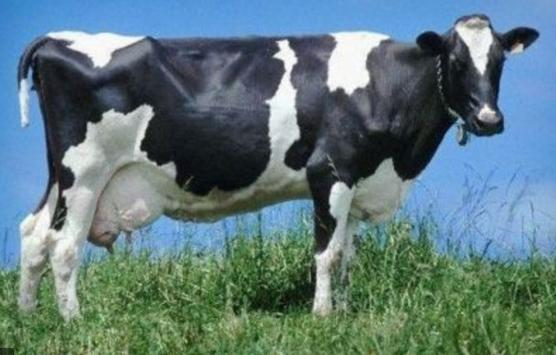cow: (19, 22, 538, 321)
